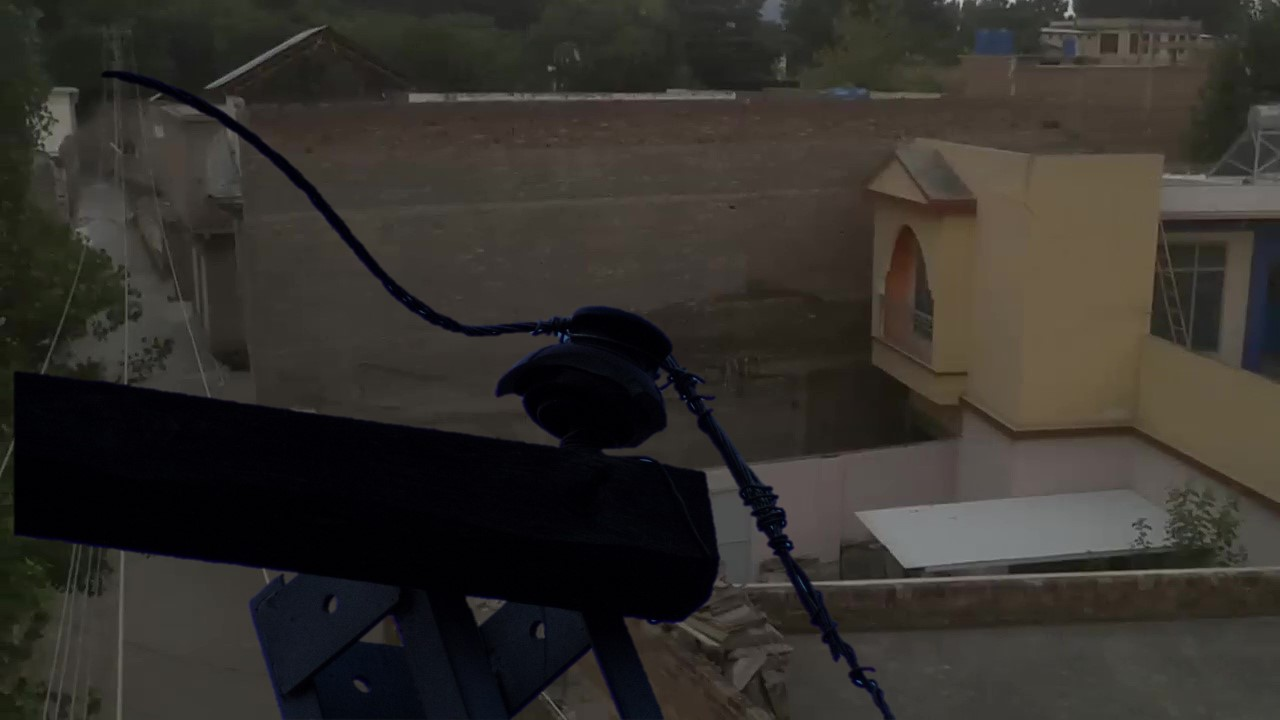defect_pin: (493, 297, 683, 451)
